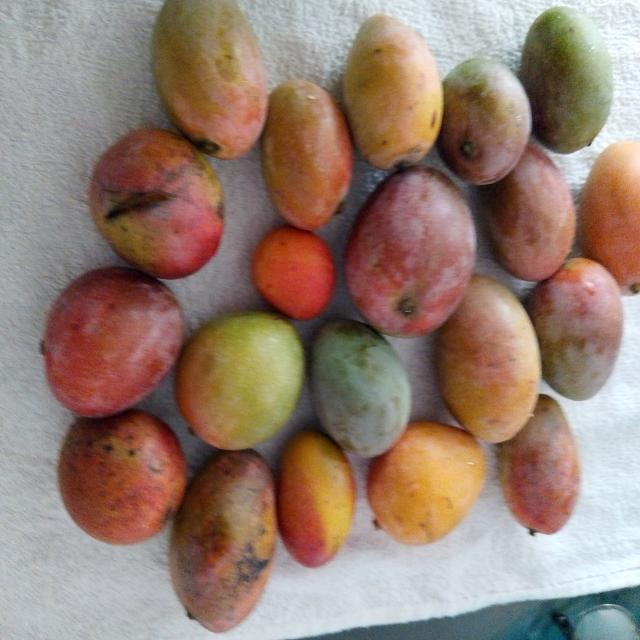mango: (345, 167, 475, 337), (42, 267, 184, 417), (89, 128, 223, 278), (169, 450, 276, 632), (152, 0, 267, 158), (435, 275, 541, 442), (175, 312, 304, 449), (58, 410, 186, 544), (343, 15, 442, 169), (368, 422, 485, 544), (261, 80, 353, 230), (527, 258, 623, 400), (311, 320, 411, 456), (520, 7, 612, 153), (481, 144, 576, 281), (438, 58, 531, 184), (499, 395, 580, 534), (277, 431, 355, 567), (580, 141, 639, 294), (252, 226, 335, 320)
